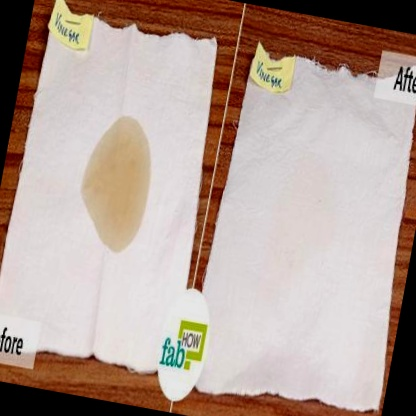coffee: (83, 122, 157, 230)
